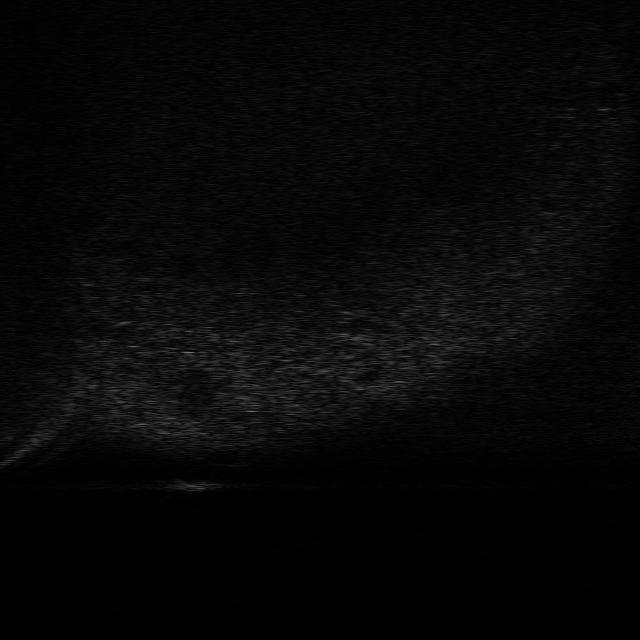cube: (164, 478, 218, 493)
